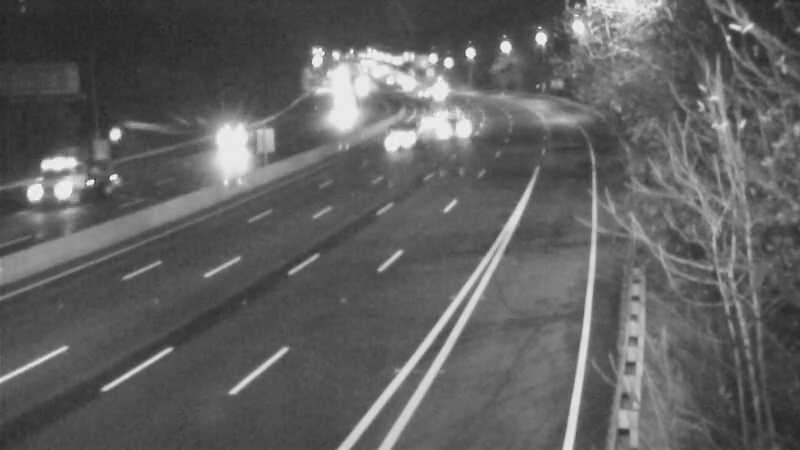vehicle: (28, 148, 108, 228), (417, 87, 467, 137), (408, 99, 458, 149), (433, 101, 483, 151), (373, 109, 423, 159), (204, 110, 254, 160), (313, 86, 363, 136)
